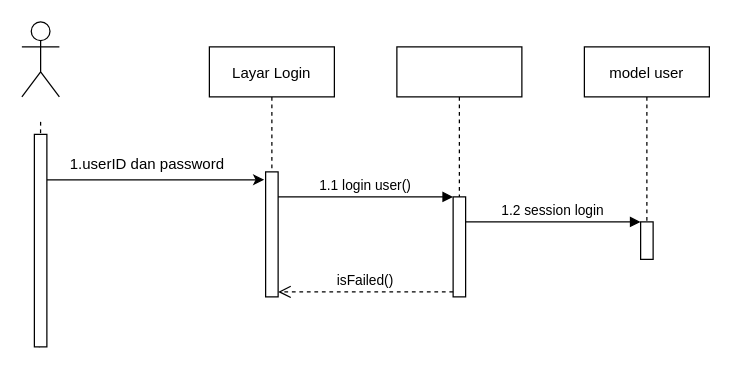
Image size: 731x371. Some labels were removed from this diagram. Each missing label, with the centre of its shape:
":User" goes at point (40, 59).
"validasi user" goes at point (459, 171).
